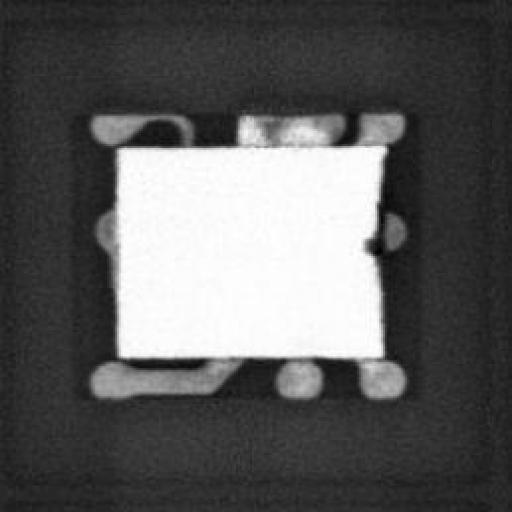DIE_BROKEN: (357, 152, 385, 260)
